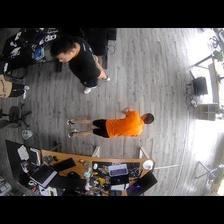fall: (66, 108, 156, 141)
normal: (50, 34, 109, 92)
